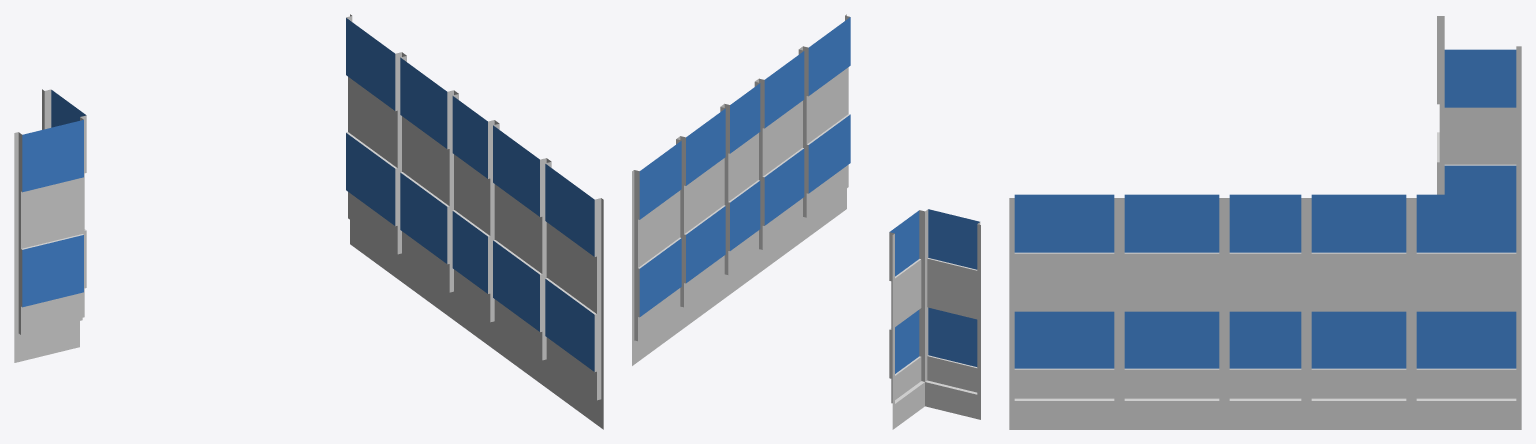
3 renders of one model, left to right at view 1: azimuth 30°, elevation 25°; view 2: azimuth 150°, elevation 25°; view 3: azimuth 270°, elevation 25°, orthographic. The views are drawn at different scales.
Visible parts, largest first — view 1: 06a_Base; view 2: 06a_Base; view 3: 06a_Base.
Boxes of the visible parts, <box> form: 06a_Base: <box>14,14,603,429</box>; 06a_Base: <box>632,14,980,429</box>; 06a_Base: <box>1009,16,1521,429</box>.
Size of the model in its own units: 42.5 by 25 by 50.
